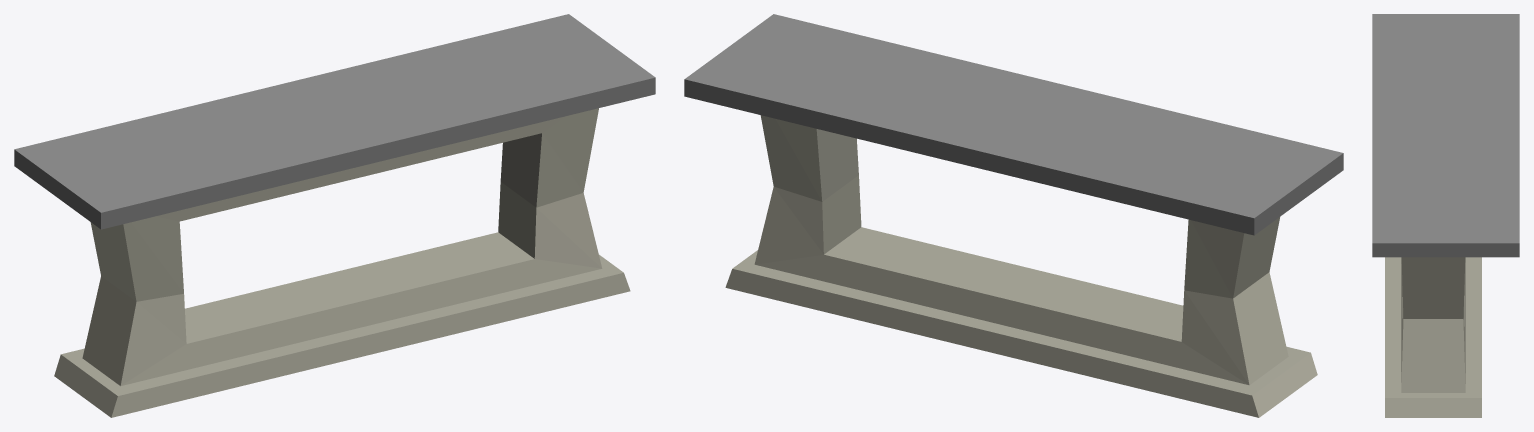
The model's file is Prop_Bar_Bench.fbx.
3 renders of one model, left to right at view 1: azimuth 30°, elevation 25°; view 2: azimuth 150°, elevation 25°; view 3: azimuth 270°, elevation 25°, orthographic. The views are drawn at different scales.
Visible parts, largest first — view 1: Bar_bench; view 2: Bar_bench; view 3: Bar_bench.
Part boxes in pixels (box(x1,y1,x2,y2)): Bar_bench: box(14, 14, 655, 417); Bar_bench: box(684, 14, 1343, 417); Bar_bench: box(1372, 14, 1519, 417).
Bounding box in the file's own units: 140 × 38.04 × 51.95.
1 material, 1 textured.
